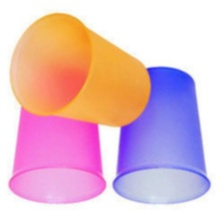glass: (6, 10, 155, 134), (107, 60, 218, 214), (3, 78, 109, 206)
